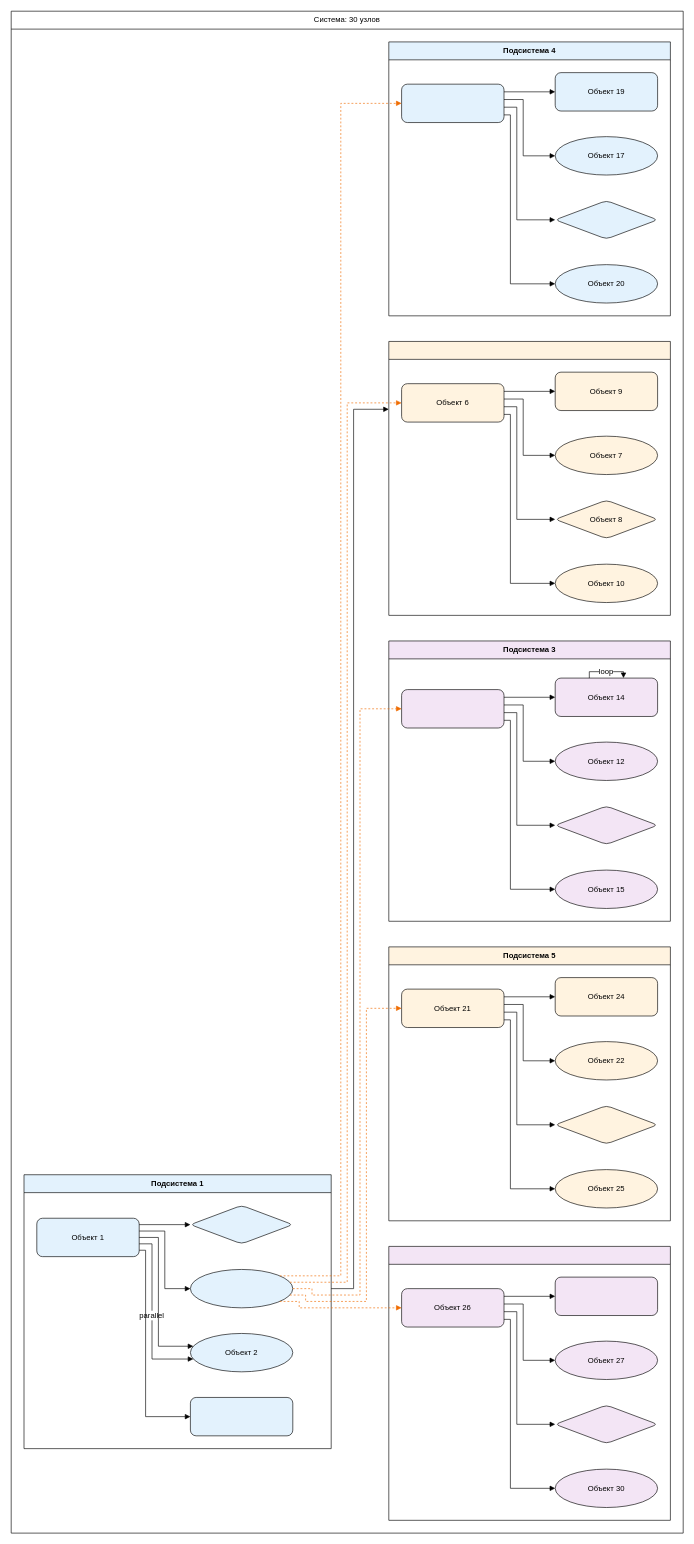
Some shapes in this 694 by 1544 pixel diagram are drawn without their labels. The box of each missing label's shape, as (x1, y1, x2, y2) in pixels:
Объект 11: (401, 689, 504, 728)
Объект 13: (555, 805, 658, 844)
Объект 16: (401, 84, 504, 123)
Объект 18: (555, 200, 658, 239)
Объект 23: (555, 1105, 658, 1144)
Объект 28: (555, 1404, 658, 1444)
Объект 29: (555, 1276, 658, 1316)
Объект 3: (190, 1205, 293, 1244)
Объект 4: (190, 1397, 293, 1436)
Объект 5: (190, 1269, 293, 1308)
Подсистема 2: (388, 341, 670, 615)
Подсистема 6: (388, 1246, 670, 1520)
